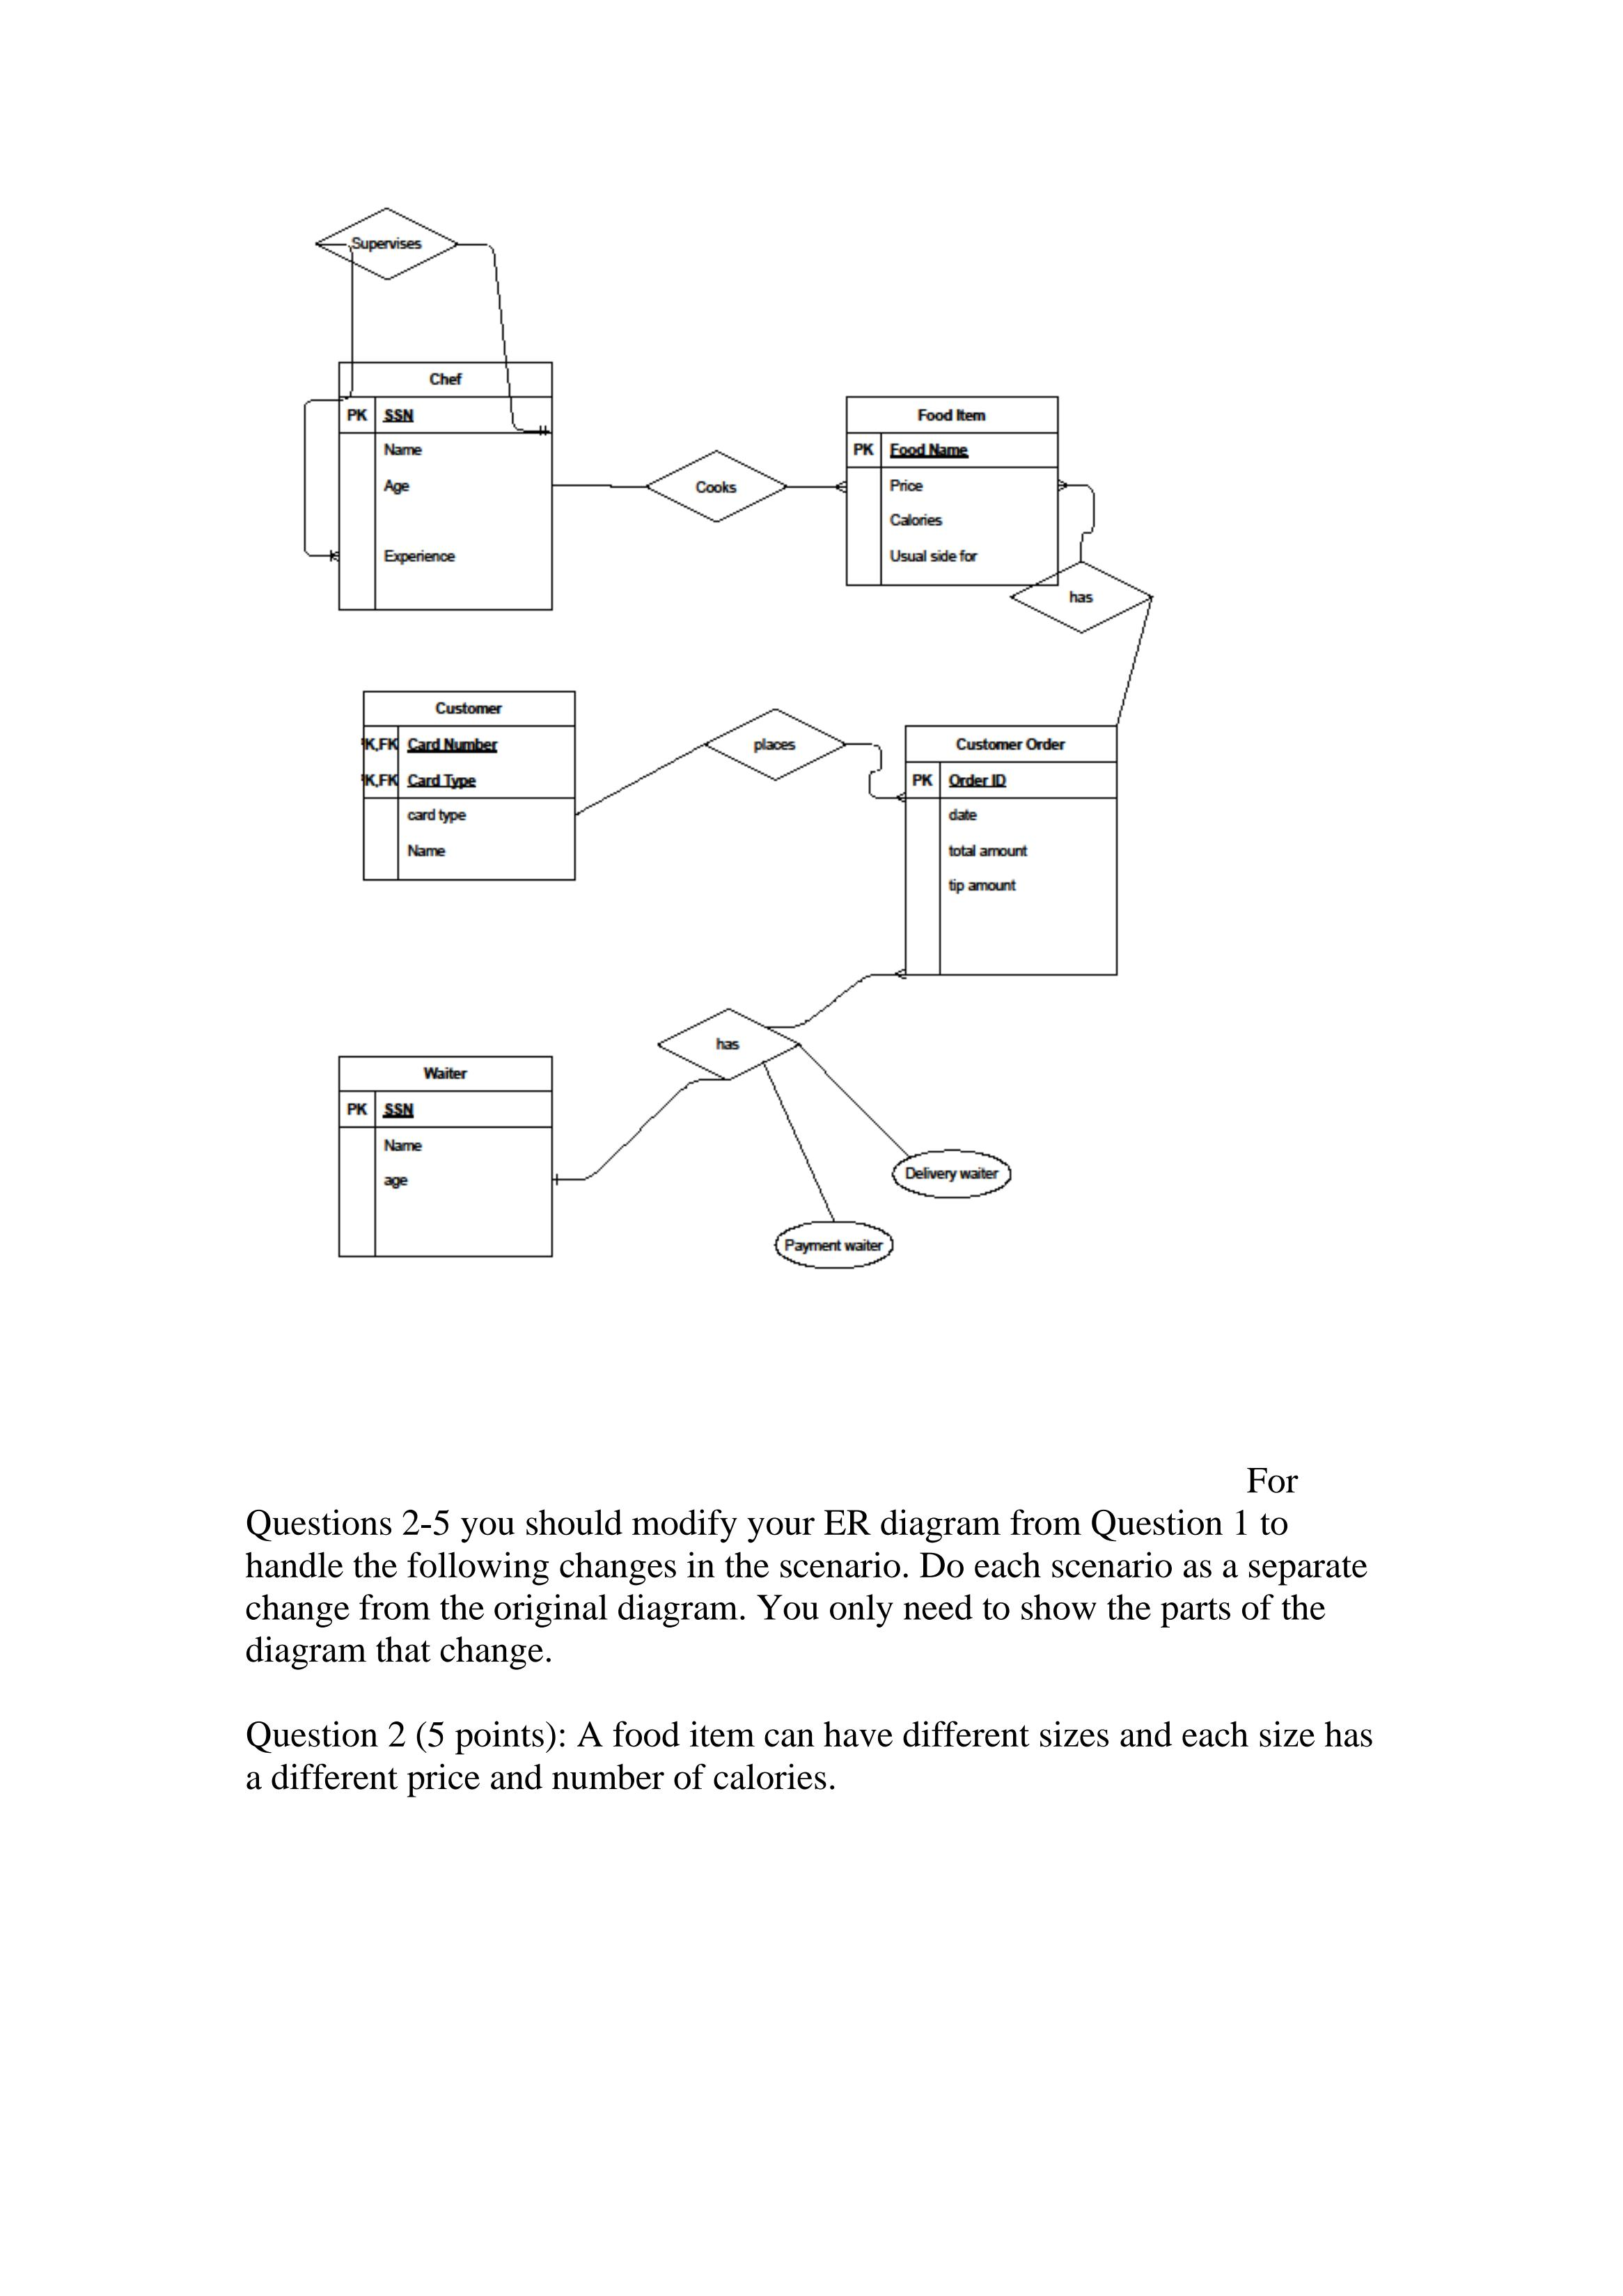Attribute: (887, 1138, 1022, 1210), (771, 1214, 898, 1277)
Entity: (891, 711, 1135, 993), (327, 353, 562, 629), (328, 1049, 562, 1277), (350, 680, 588, 898), (834, 385, 1064, 599)
Relationship: (309, 195, 464, 288), (697, 703, 852, 791), (657, 1001, 804, 1093), (1019, 548, 1166, 639), (645, 444, 789, 529)
